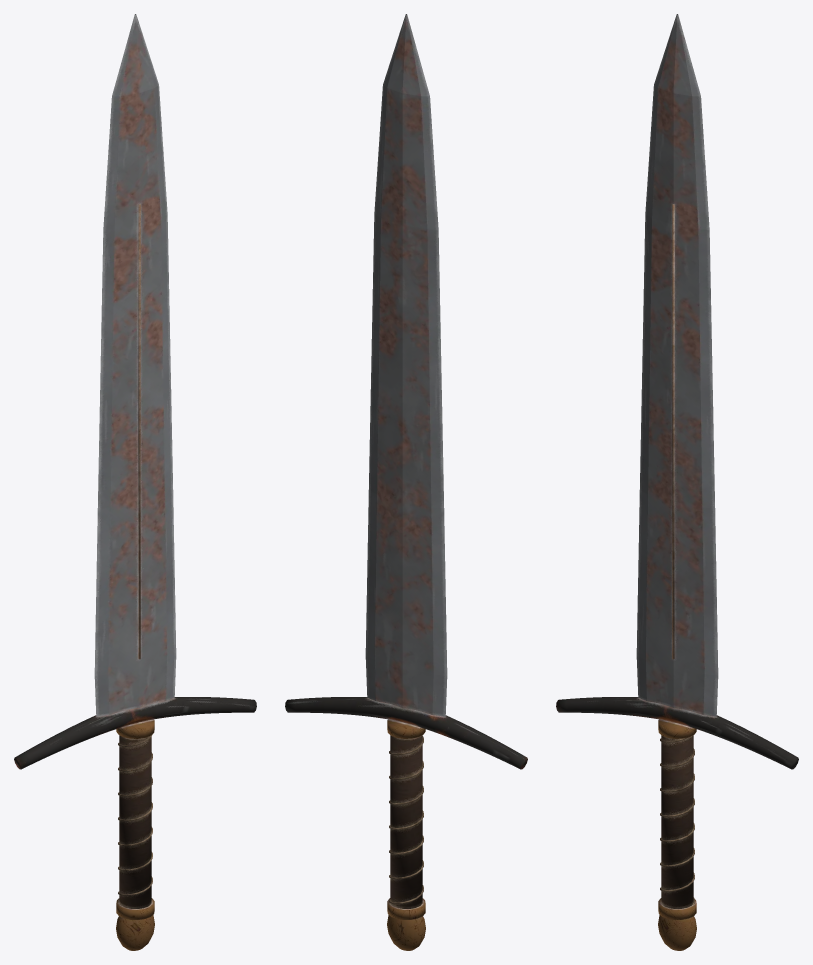
File: eq_greatsword_1.glb
3 renders of one model, left to right at view 1: azimuth 30°, elevation 25°; view 2: azimuth 150°, elevation 25°; view 3: azimuth 330°, elevation 25°, orthographic.
Parts seen in each view (by area): view 1: eq_greatsword_1; view 2: eq_greatsword_1; view 3: eq_greatsword_1.
Part boxes in pixels (x1=…): eq_greatsword_1: x1=14, y1=14, x2=256, y2=950; eq_greatsword_1: x1=285, y1=14, x2=527, y2=950; eq_greatsword_1: x1=556, y1=14, x2=798, y2=950.
Bounding box in the file's own units: 0.4864 × 1.82 × 0.068.
1 material, 1 textured.
